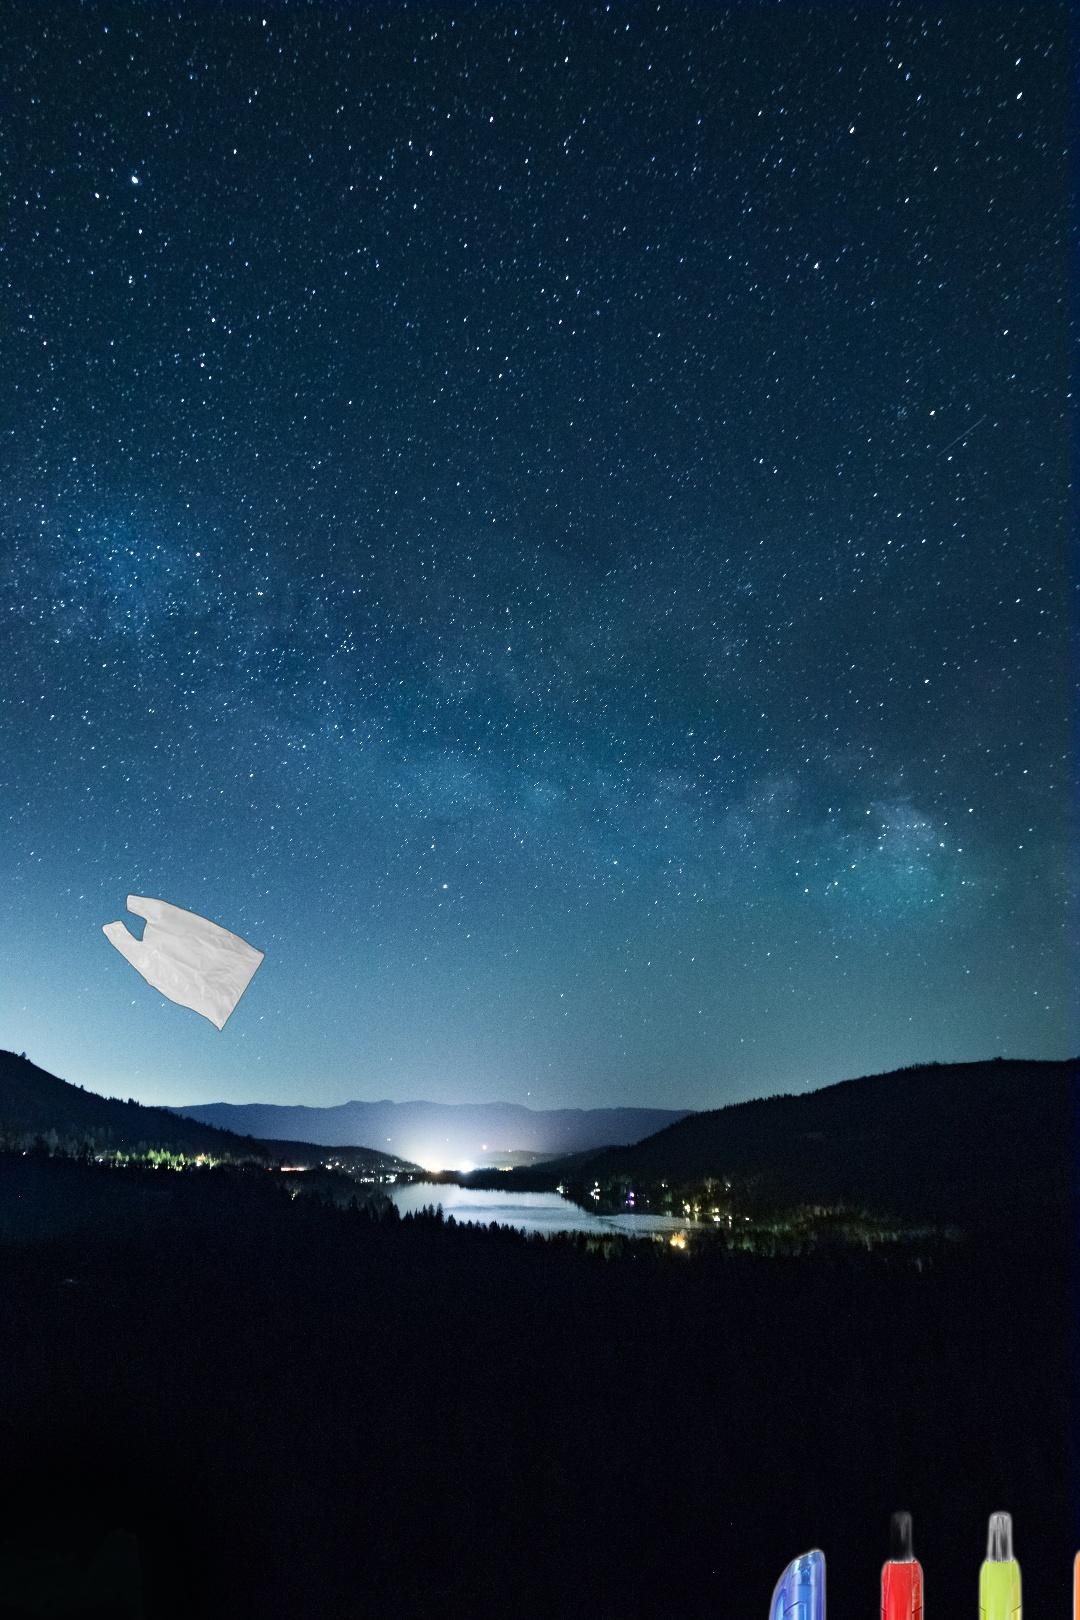penholder: (588, 1504, 1080, 1620)
plastic-bag: (99, 891, 268, 1035)
